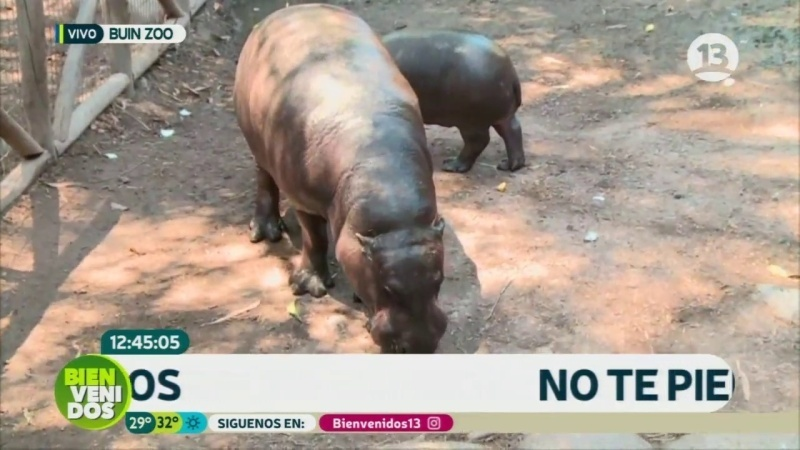hipopotamo: (220, 1, 464, 354), (370, 15, 549, 186)
